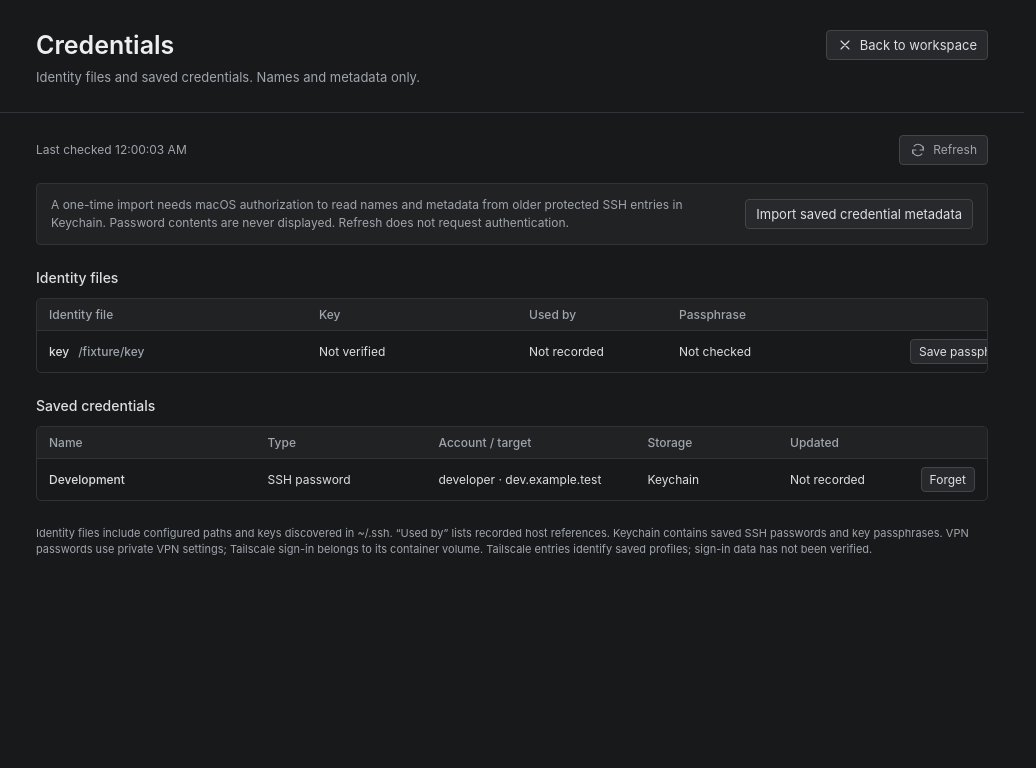
Saved credential metadata import › keeps import available when a partial result still requires it
This screenshot has width=1036, height=768.
Step 1. Click the button "Import saved credential metadata" → point(859, 214), box [745,198,973,228]
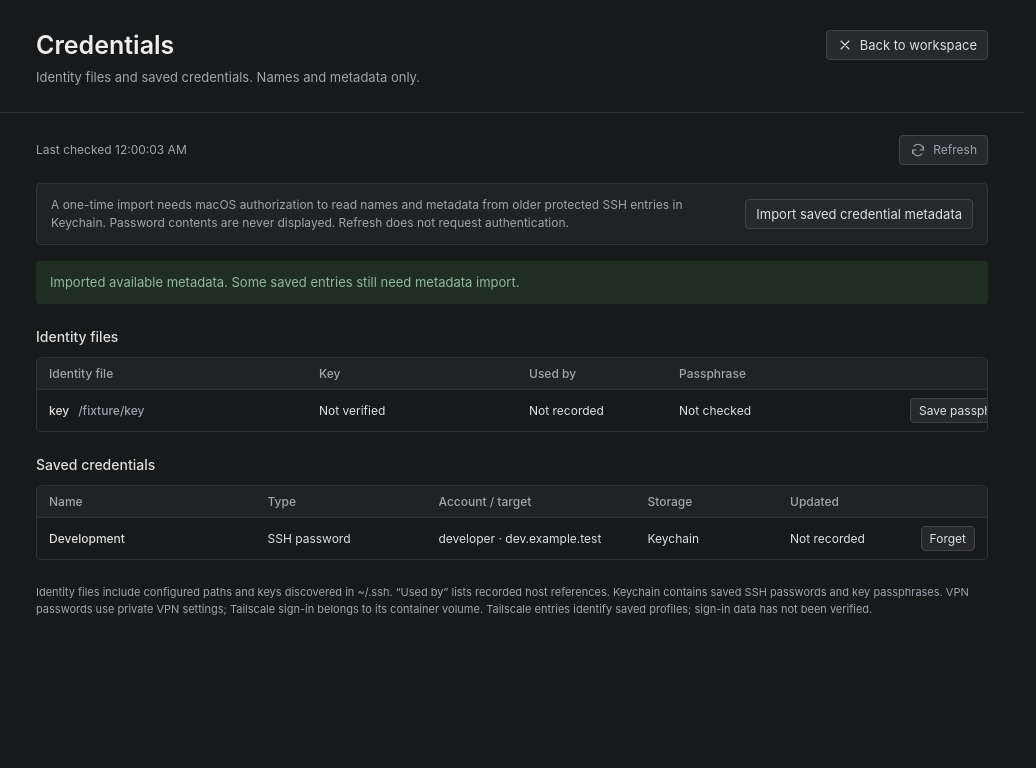
Result: the text "Imported available metadata. Some saved entries still need metadata import." is shown at [36,260,988,304]
